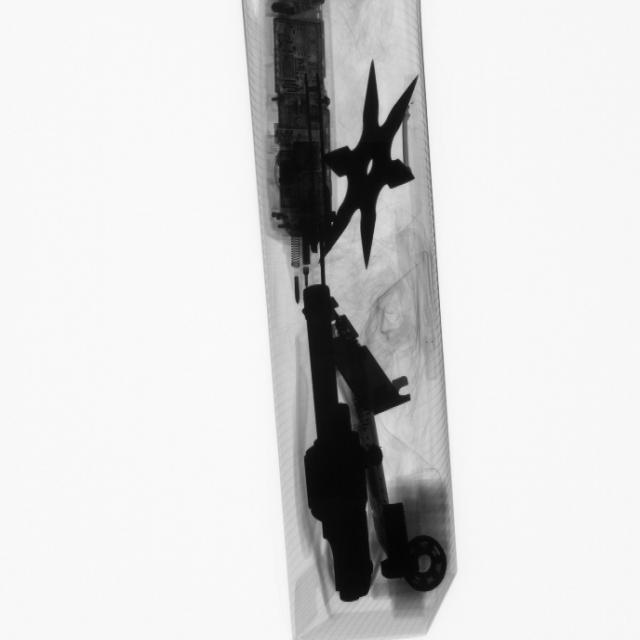GUN: (292, 274, 379, 602)
SHURIKEN: (321, 61, 418, 270)
